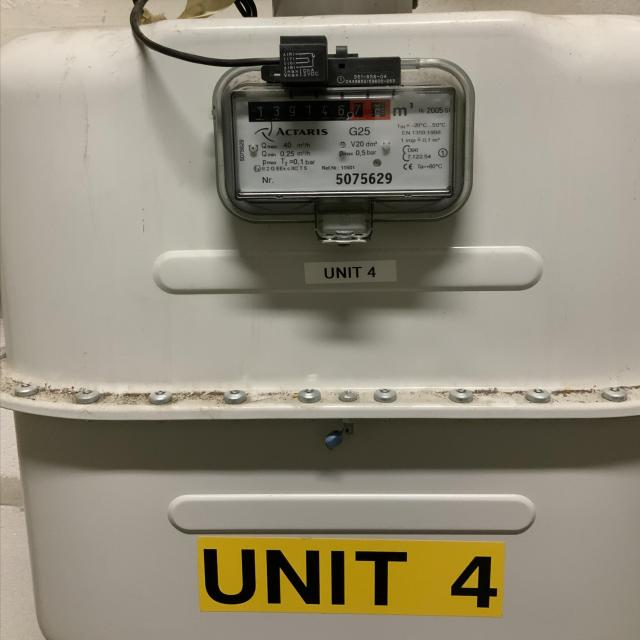gaz_meter: (224, 74, 460, 200)
indication: (245, 92, 394, 125)
